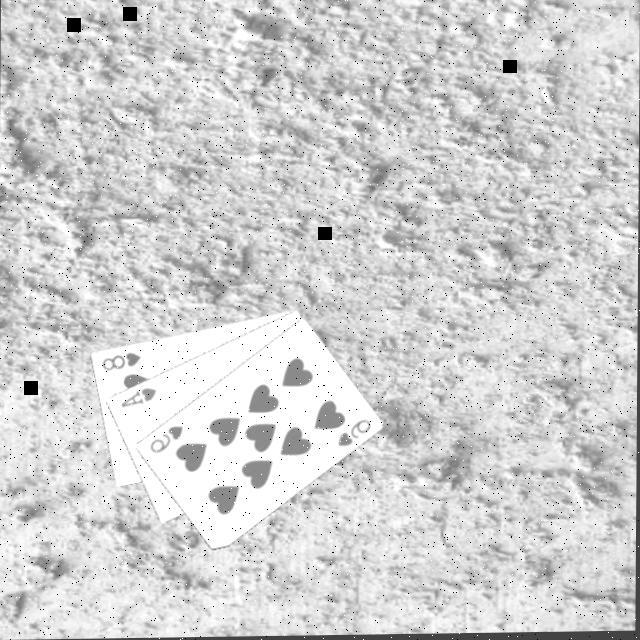8H: (99, 351, 144, 376)
9H: (148, 424, 187, 458), (335, 420, 375, 452)
AH: (118, 386, 161, 412)
